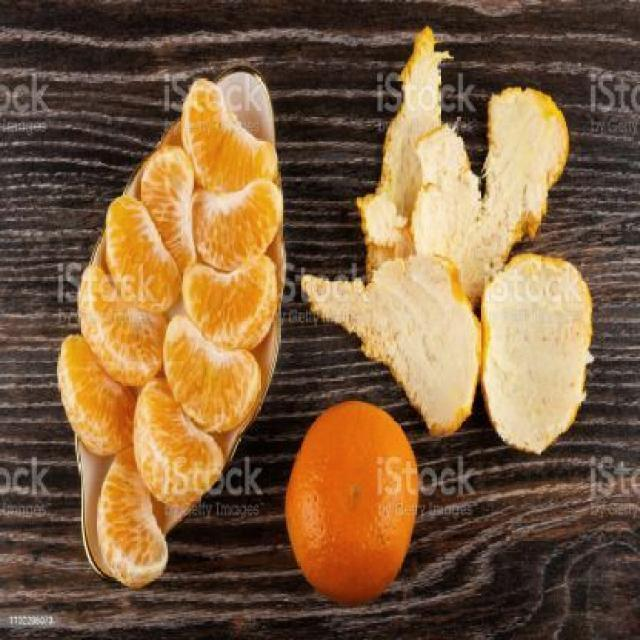Jeruk Sudah Matang: (282, 399, 418, 598)
